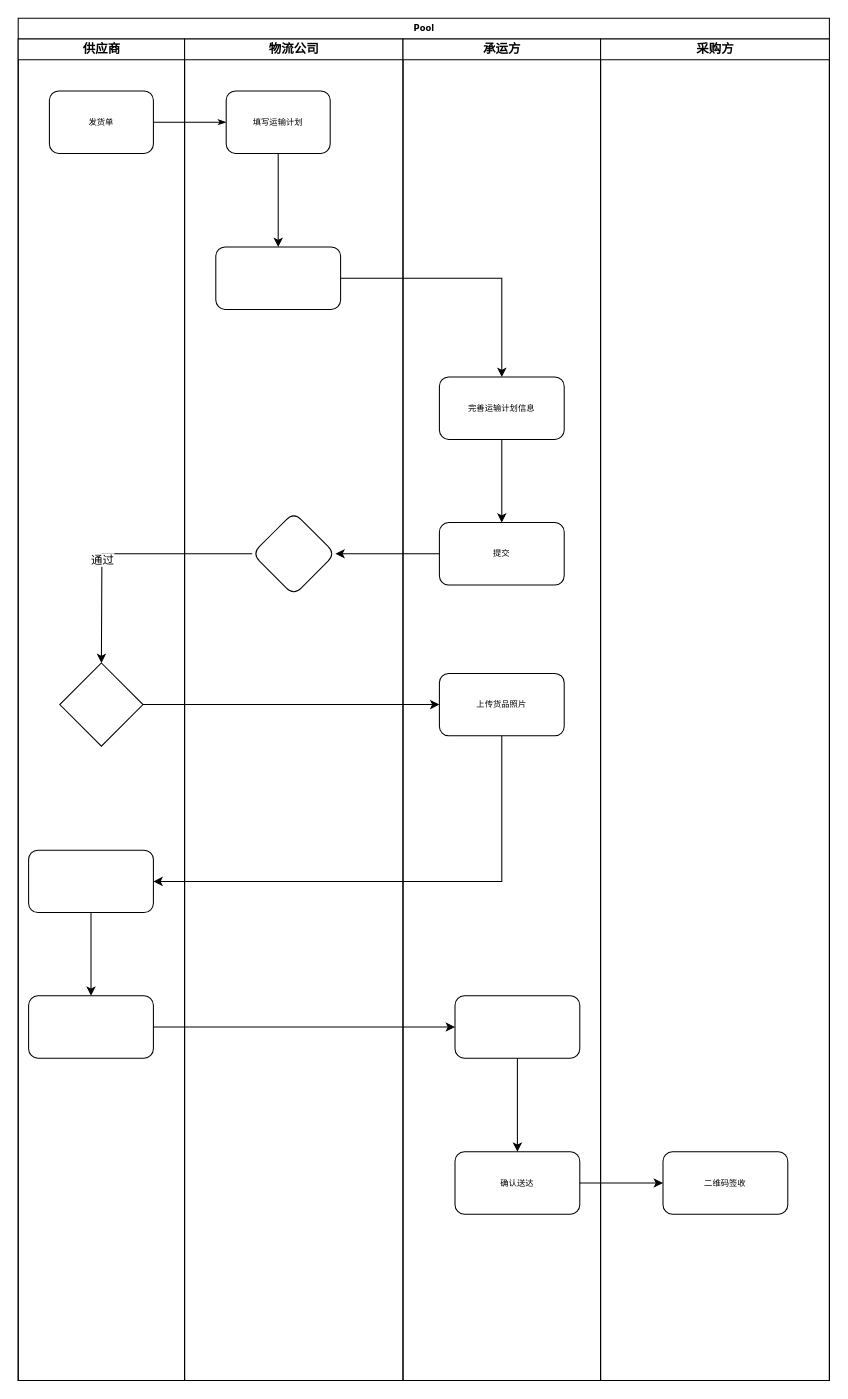
Image size: 848x1399. Some labels were removed from this diagram. The shapes that lost their labels are listed below. From the top down, each one's centre as x and y in pixels, then its label:
At pixel 278 277: "填写运输阶段".
At pixel 293 553: "审核运输计划".
At pixel 101 704: "运输单审核".
At pixel 90 881: "货品审核(销售业务员)".
At pixel 90 1026: "确认发货(业务员)".
At pixel 517 1026: "确认发货".
